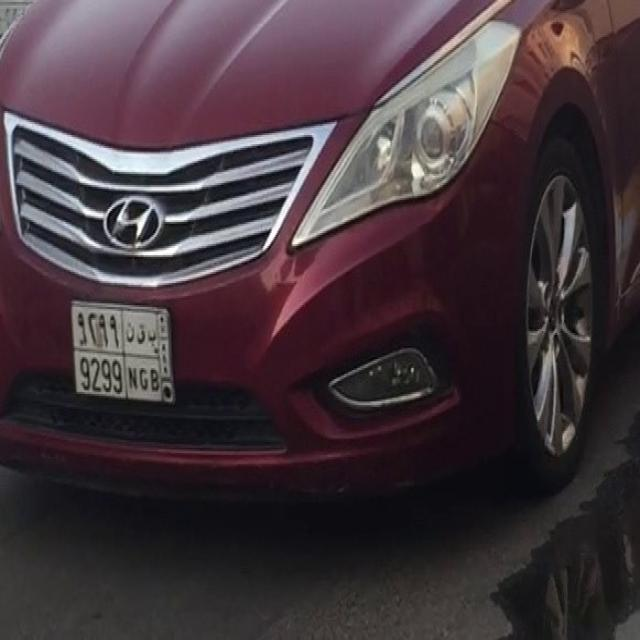Car-plate: (61, 279, 200, 418)
